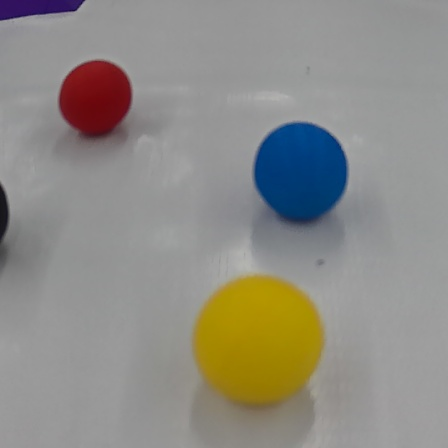blue: (252, 120, 349, 221)
red: (57, 59, 134, 136)
yellow: (190, 273, 325, 408)
